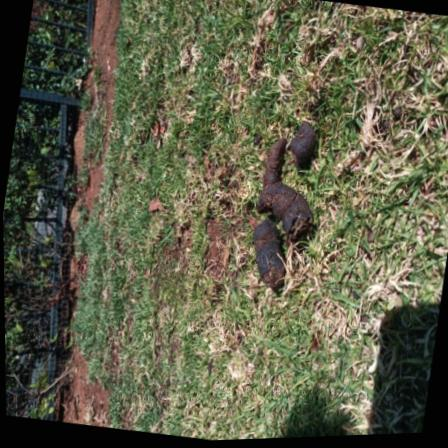dog-poop: (235, 115, 332, 304)
